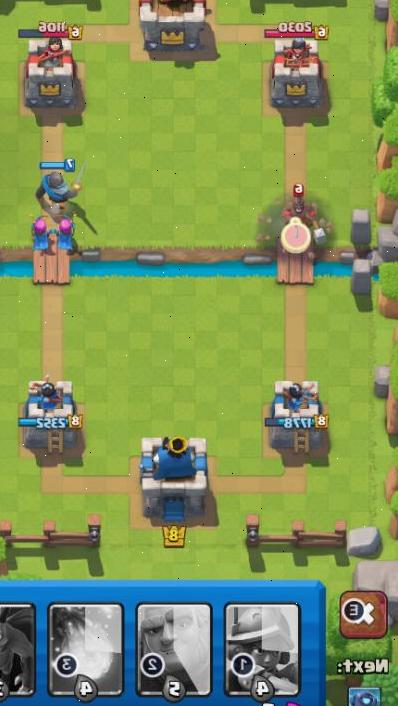enemy_hog_rider: (270, 175, 332, 254)
player_archers: (54, 210, 80, 254), (28, 210, 54, 252)
player_knight: (32, 157, 92, 207)
